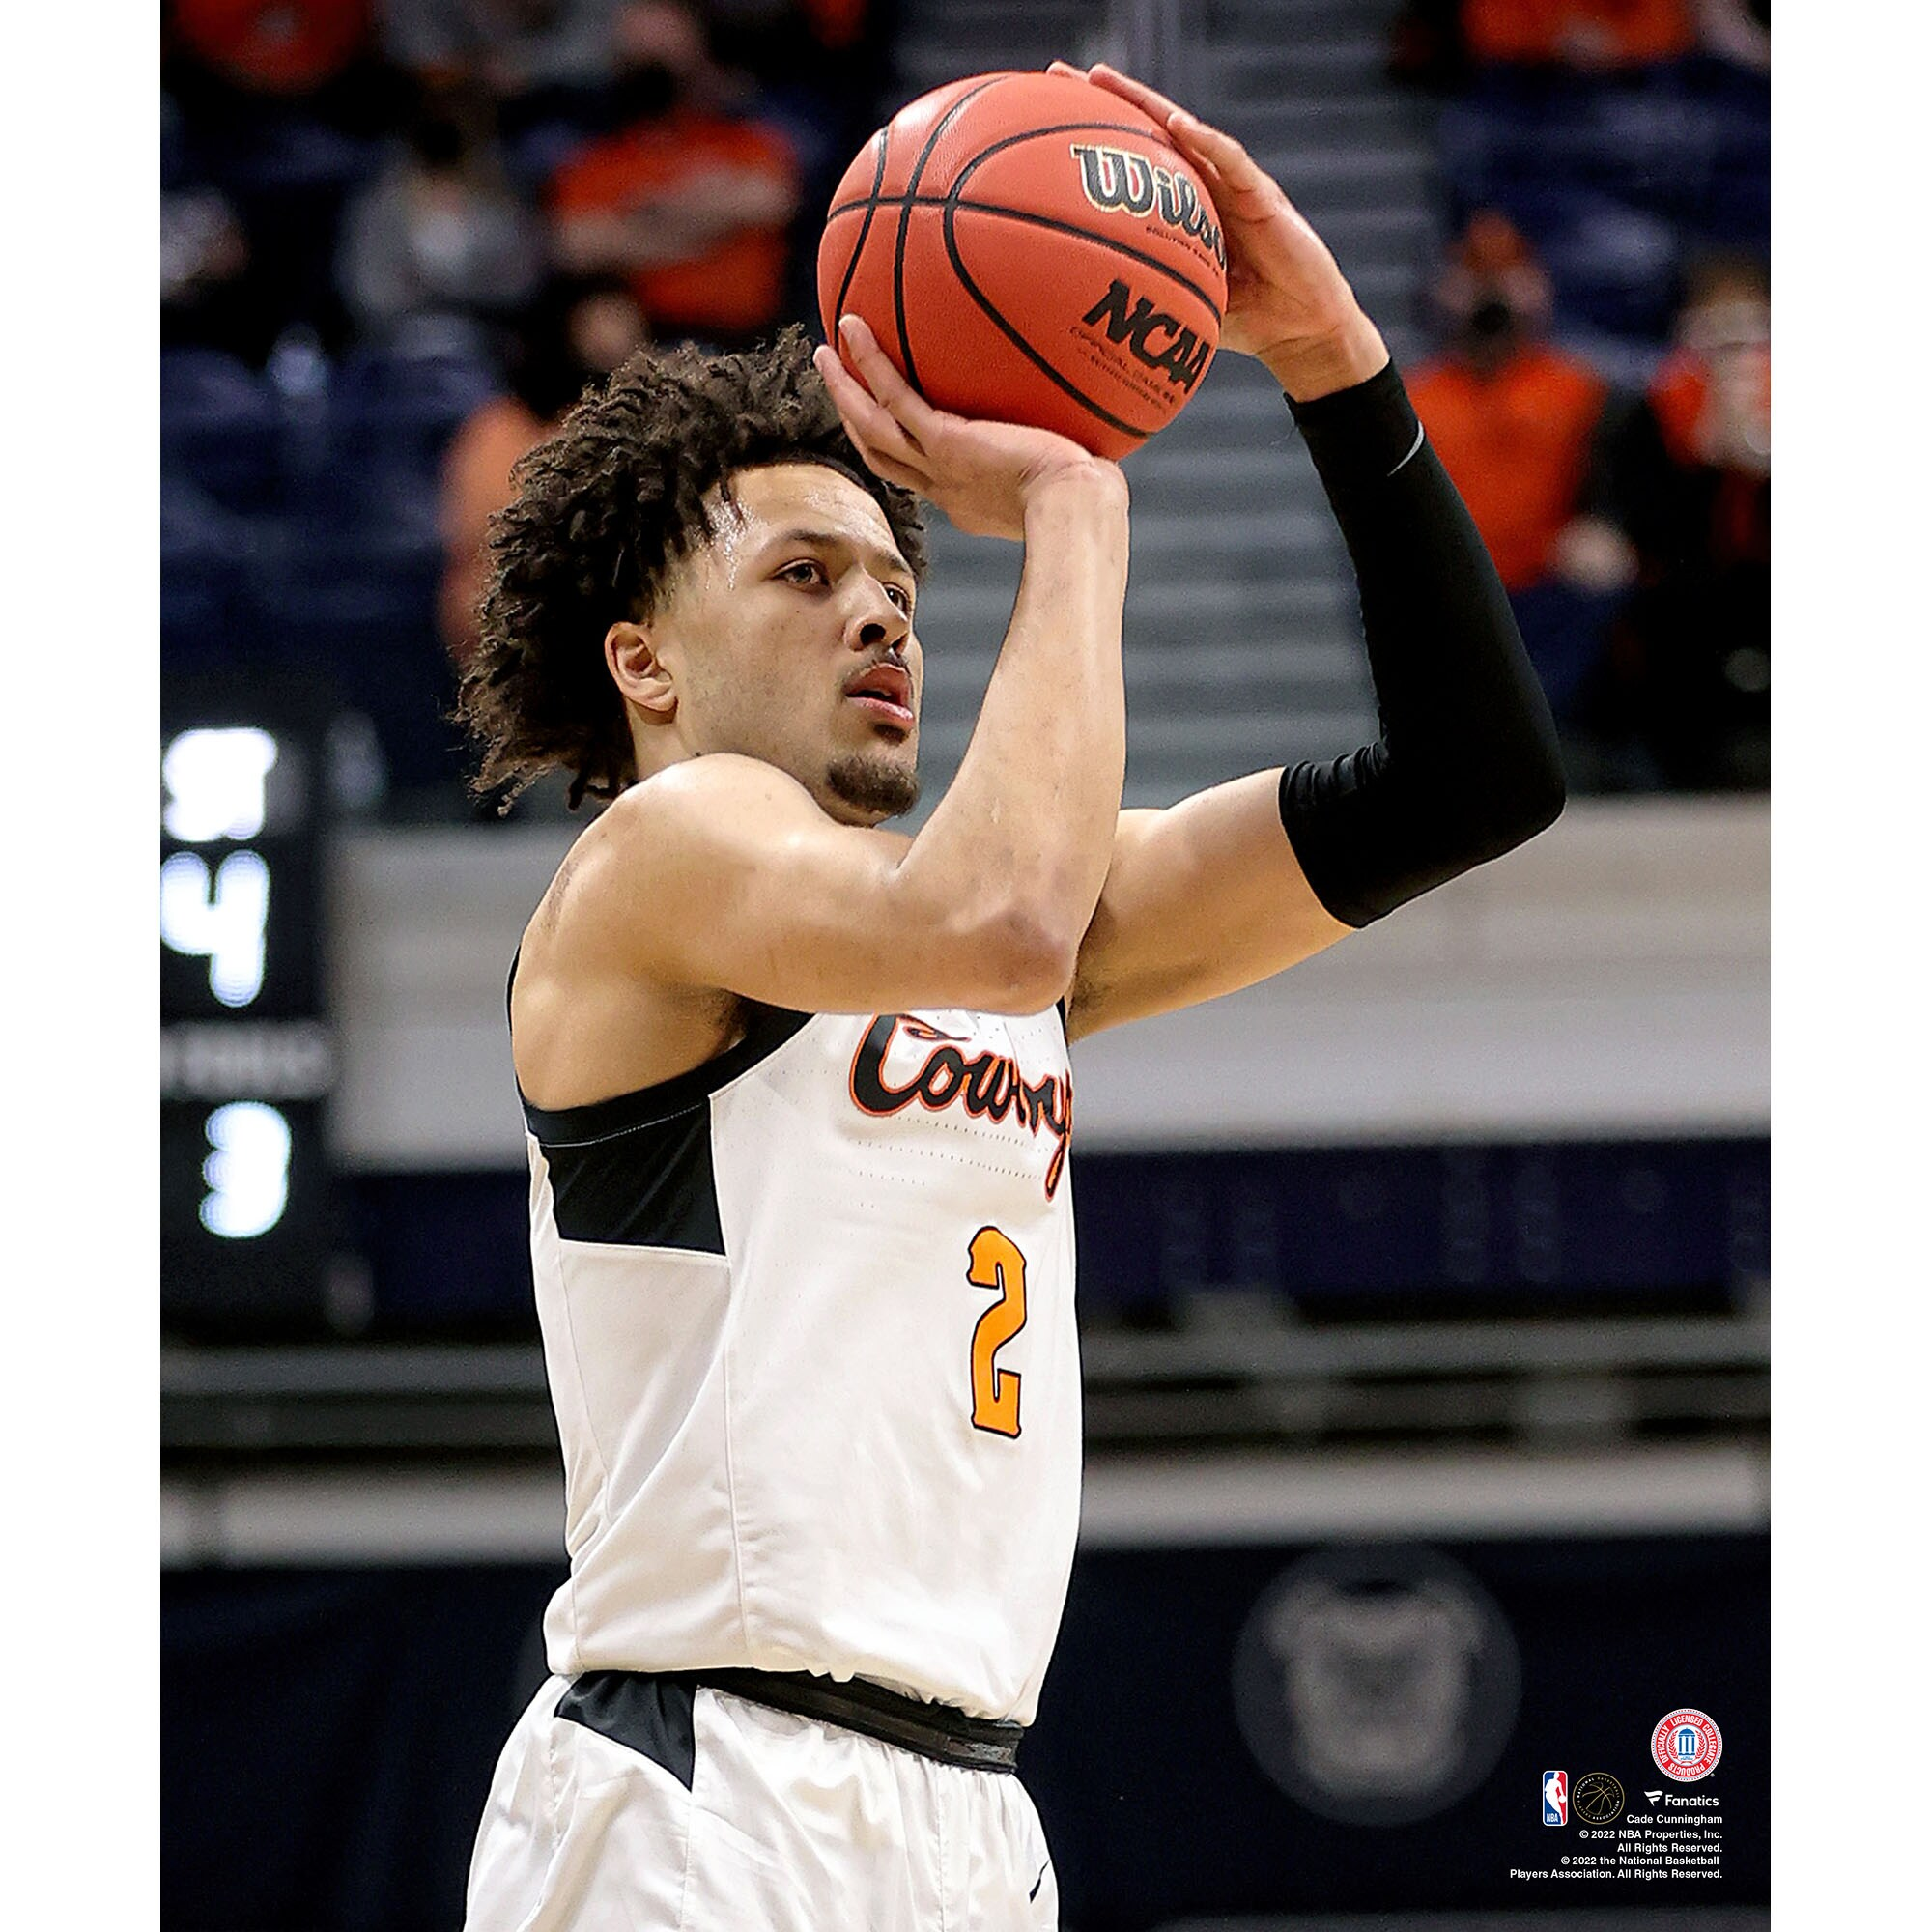Jumpshot: (819, 60, 1562, 1021)
